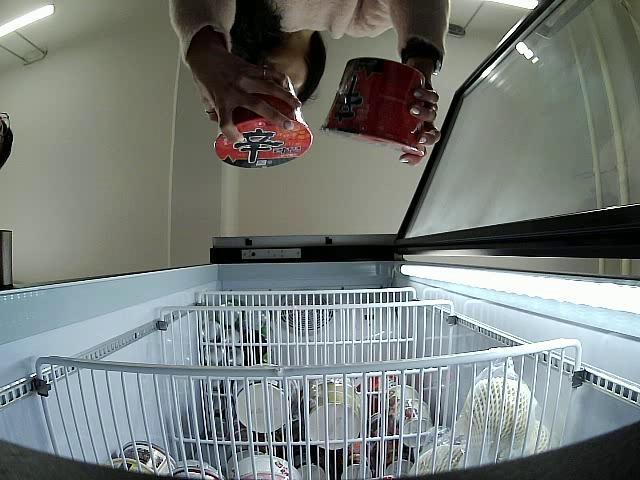01_ShinRamen_L: (318, 57, 426, 158), (213, 74, 314, 170)
